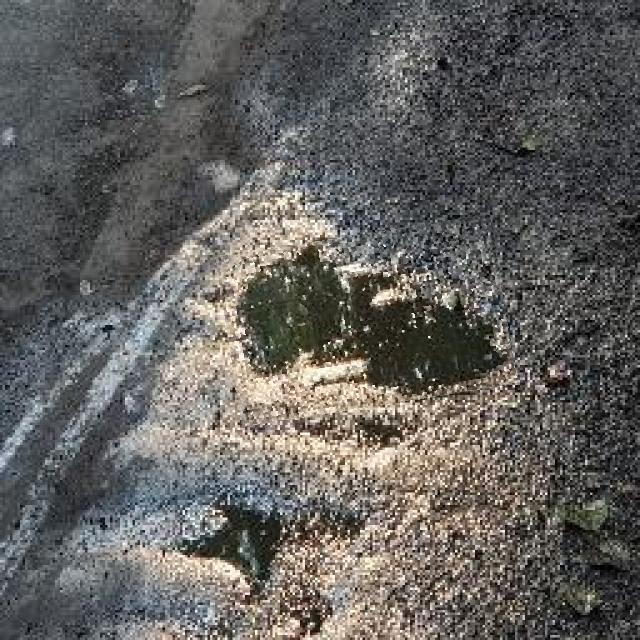puddle: (222, 225, 513, 418)
